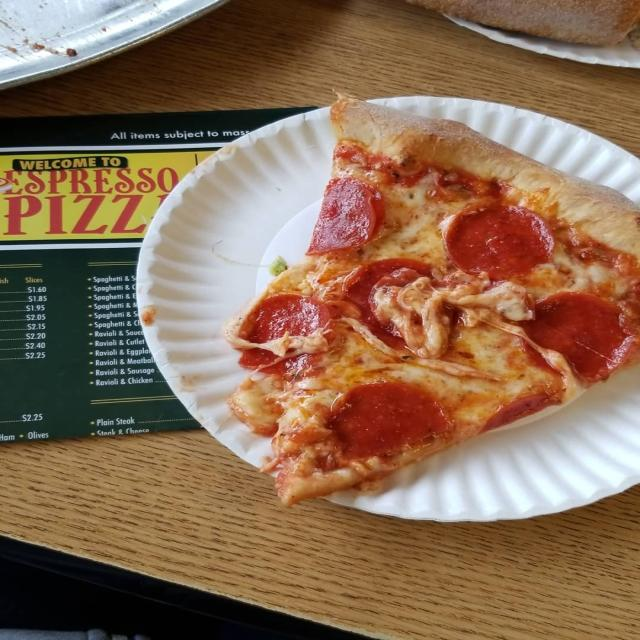pepperoni: (353, 264, 453, 358), (536, 292, 638, 382), (339, 384, 440, 458), (443, 206, 552, 272), (306, 176, 383, 257), (242, 297, 327, 360)
pizza: (220, 100, 640, 508)
